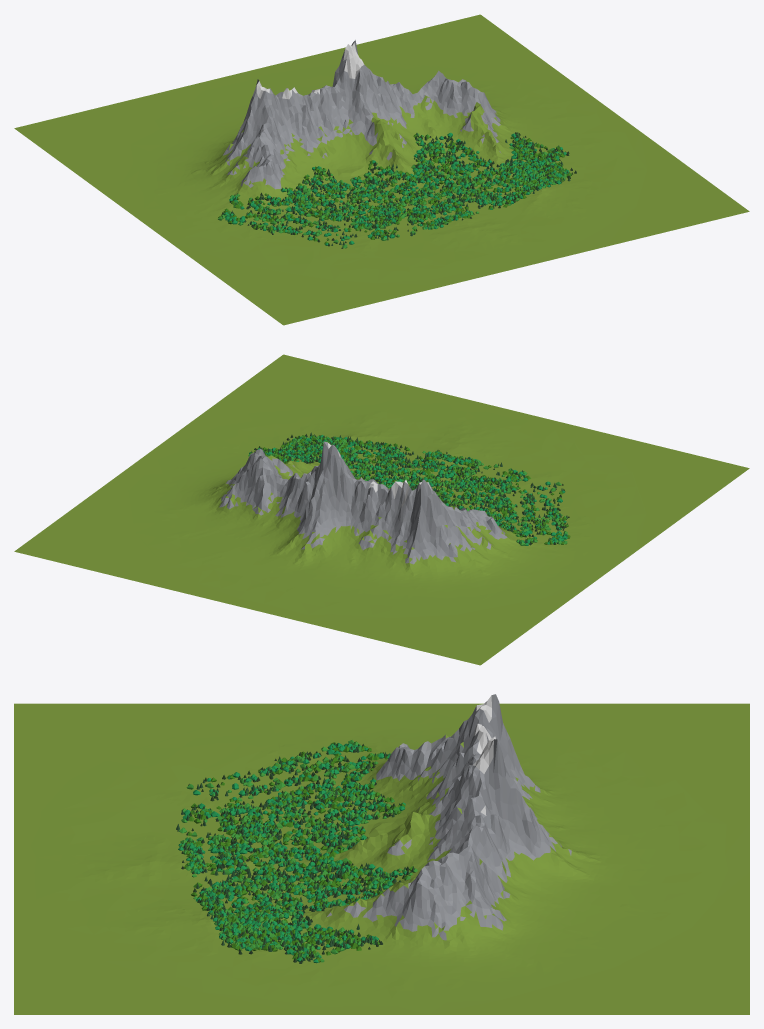
The model's file is moutain_master.glb.
The picture shows the model from 3 angles, top to bottom: view 1: azimuth 30°, elevation 25°; view 2: azimuth 150°, elevation 25°; view 3: azimuth 270°, elevation 25°; orthographic projection. The views are drawn at different scales.
Parts seen in each view (by area): view 1: Moutain; view 2: Moutain; view 3: Moutain.
Part boxes in pixels (bbox=[...]): Moutain: bbox=[14, 14, 749, 325]; Moutain: bbox=[14, 354, 749, 665]; Moutain: bbox=[14, 694, 749, 1014].
Bounding box in the file's own units: 10 × 2.05 × 10.
